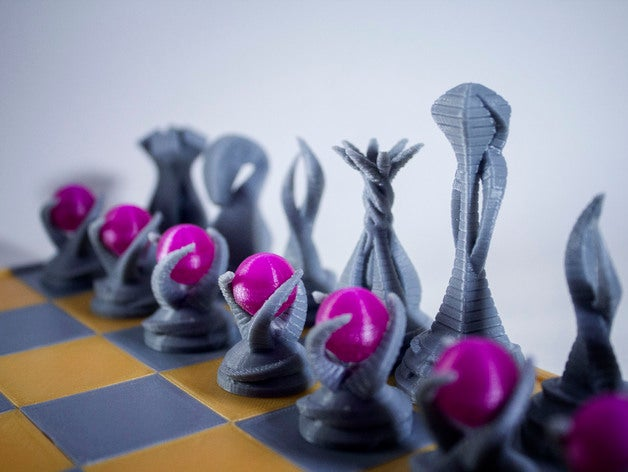Good: (155, 211, 427, 454)
